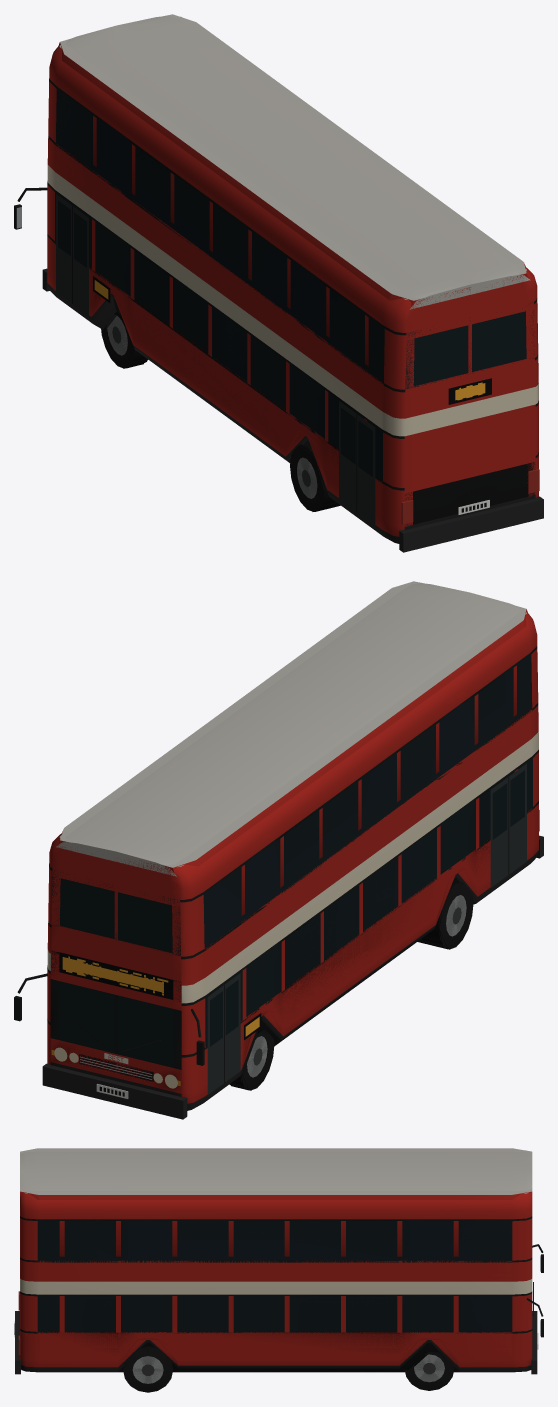
File: bus-double.glb
3 views of the same model, one above another, from view 1: azimuth 30°, elevation 25°; view 2: azimuth 150°, elevation 25°; view 3: azimuth 270°, elevation 25° (orthographic). The views are drawn at different scales.
Visible parts, largest first — view 1: near, far, distant; view 2: near, far, distant; view 3: near, far, distant.
Part boxes in pixels (<box>): near: <box>14,16,543,552</box>; far: <box>17,21,535,527</box>; distant: <box>58,14,535,527</box>; near: <box>14,583,543,1119</box>; far: <box>18,590,532,1094</box>; distant: <box>50,581,527,1096</box>; near: <box>14,1151,543,1392</box>; far: <box>20,1151,542,1383</box>; distant: <box>20,1148,532,1384</box>.
Bounding box in the file's own units: 3.14 × 4.32 × 10.55.
